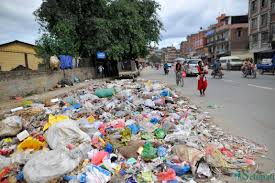garbage: (7, 103, 207, 183), (80, 83, 176, 183), (114, 125, 255, 183)
